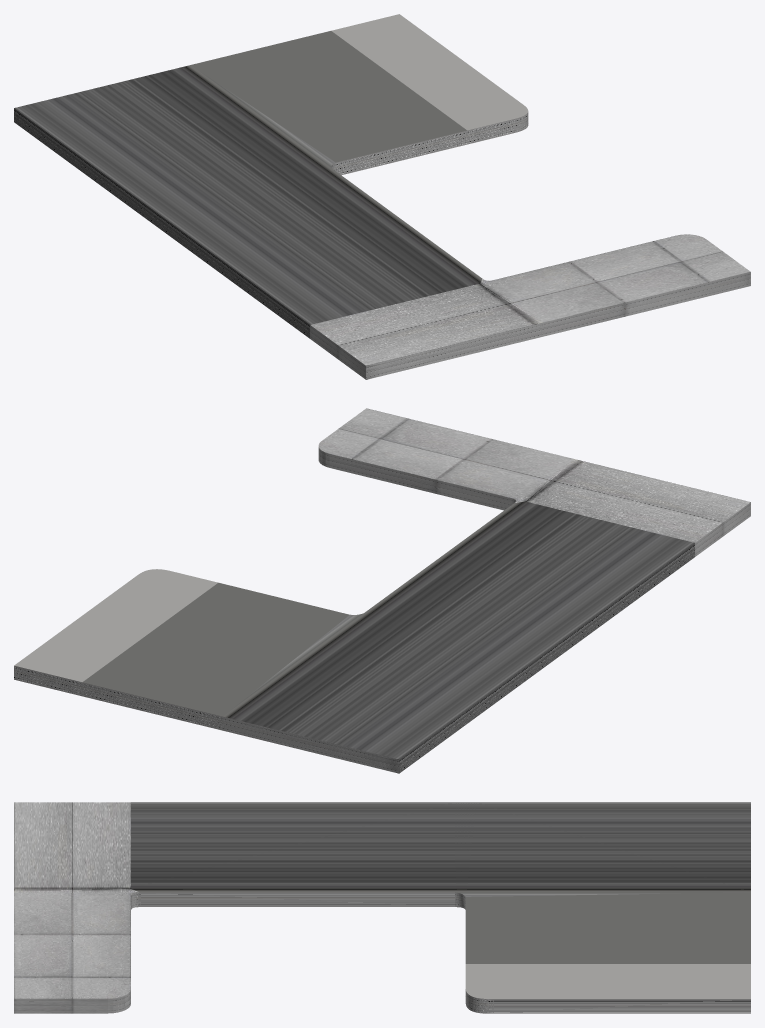
Rendered from semestral_final.glb.
3 views of the same model, one above another, from view 1: azimuth 30°, elevation 25°; view 2: azimuth 150°, elevation 25°; view 3: azimuth 270°, elevation 25° (orthographic). The views are drawn at different scales.
Visible parts, largest first — view 1: sidewalk_around; view 2: sidewalk_around; view 3: sidewalk_around.
Boxes of the visible parts, x1,y1,x2,y2 form: sidewalk_around: [14, 14, 750, 379]; sidewalk_around: [14, 408, 750, 773]; sidewalk_around: [14, 802, 750, 1013].
Bounding box in the file's own units: 56.1 × 1.96 × 88.74.
1 material, 1 textured.
